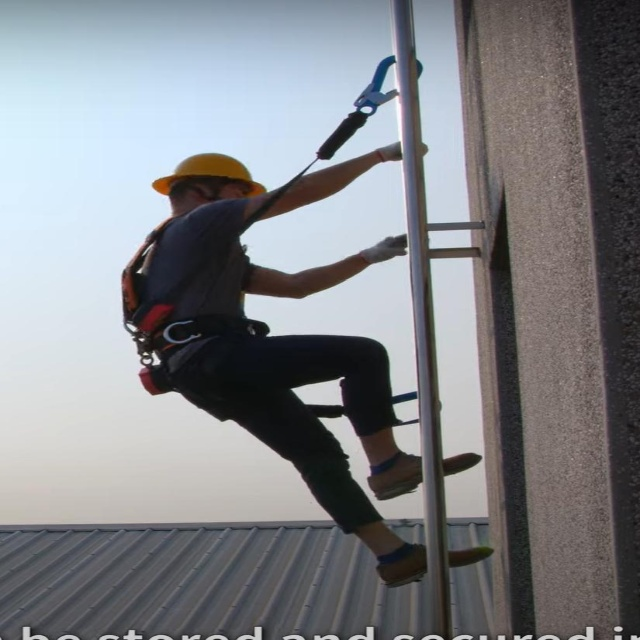Arnes_seguridad: (119, 209, 270, 400)
